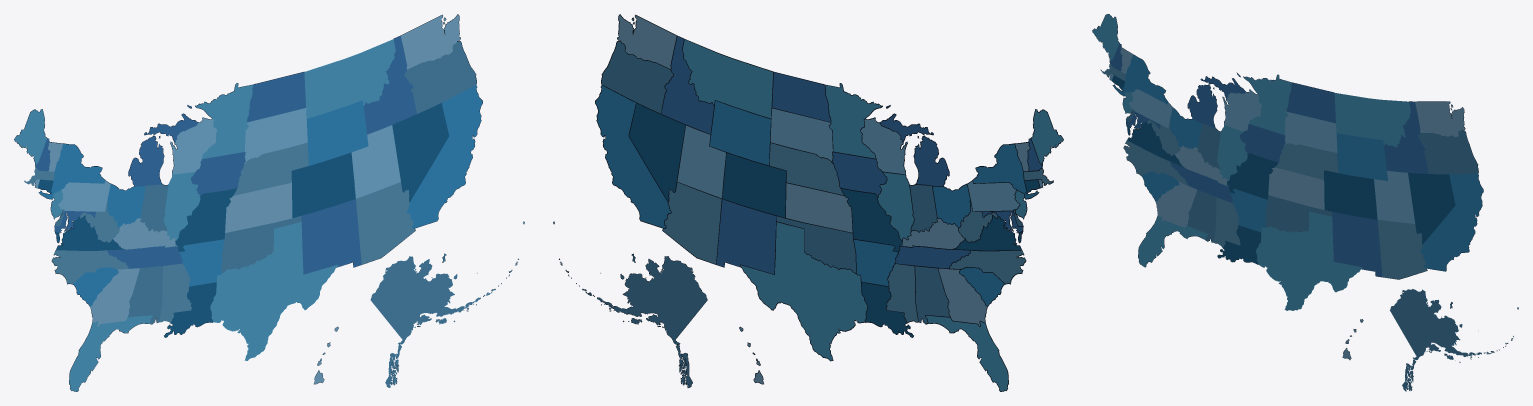
The model's file is USA.fbx.
3 views of the same model, side by side, from view 1: azimuth 30°, elevation 25°; view 2: azimuth 150°, elevation 25°; view 3: azimuth 330°, elevation 25° (orthographic). The views are drawn at different scales.
Visible parts, largest first — view 1: _Texas__1, _California__1, _Alaska__52, _Montana__1, _New_Mexico__1, _Arizona__1, _Nevada__1, _Colorado__1, _Oregon__1, _Wyoming__1, _Utah__1, _Minnesota__1 (+30 smaller); view 2: _Texas__1, _California__1, _Alaska__52, _Montana__1, _New_Mexico__1, _Arizona__1, _Nevada__1, _Colorado__1, _Wyoming__1, _Oregon__1, _Utah__1, _Minnesota__1 (+31 smaller); view 3: _Texas__1, _California__1, _Alaska__52, _Montana__1, _New_Mexico__1, _Arizona__1, _Nevada__1, _Colorado__1, _Oregon__1, _Wyoming__1, _Utah__1, _Idaho__1 (+29 smaller).
Part boxes in pixels (left/top/right/bottom): _Texas__1: left=210, top=221, right=337, bottom=360; _California__1: left=406, top=85, right=482, bottom=228; _Alaska__52: left=370, top=256, right=480, bottom=387; _Montana__1: left=304, top=39, right=395, bottom=118; _New_Mexico__1: left=301, top=199, right=361, bottom=274; _Arizona__1: left=356, top=182, right=415, bottom=264; _Nevada__1: left=392, top=103, right=448, bottom=202; _Colorado__1: left=291, top=152, right=355, bottom=218; _Oregon__1: left=404, top=41, right=476, bottom=113; _Wyoming__1: left=306, top=100, right=368, bottom=165; _Utah__1: left=351, top=125, right=400, bottom=198; _Minnesota__1: left=195, top=83, right=253, bottom=158; _Texas__1: left=740, top=222, right=867, bottom=360; _California__1: left=595, top=85, right=670, bottom=228; _Alaska__52: left=597, top=256, right=706, bottom=387; _Montana__1: left=682, top=39, right=773, bottom=118; _New_Mexico__1: left=716, top=199, right=776, bottom=274; _Arizona__1: left=663, top=182, right=721, bottom=264; _Nevada__1: left=629, top=103, right=685, bottom=201; _Colorado__1: left=722, top=153, right=785, bottom=217; _Wyoming__1: left=709, top=100, right=770, bottom=165; _Oregon__1: left=601, top=41, right=673, bottom=113; _Utah__1: left=677, top=125, right=725, bottom=198; _Minnesota__1: left=825, top=83, right=882, bottom=158; _Texas__1: left=1256, top=211, right=1362, bottom=310; _California__1: left=1420, top=173, right=1483, bottom=271; _Alaska__52: left=1390, top=289, right=1481, bottom=391; _Montana__1: left=1334, top=93, right=1410, bottom=147; _New_Mexico__1: left=1332, top=211, right=1382, bottom=276; _Arizona__1: left=1377, top=220, right=1427, bottom=279; _Nevada__1: left=1408, top=173, right=1455, bottom=244; _Colorado__1: left=1324, top=170, right=1377, bottom=219; _Oregon__1: left=1418, top=129, right=1478, bottom=174; _Wyoming__1: left=1336, top=133, right=1387, bottom=180; _Utah__1: left=1374, top=171, right=1415, bottom=223; _Idaho__1: left=1384, top=101, right=1428, bottom=173.
Bounding box in the file's own units: 873273 × 597490 × 102.
